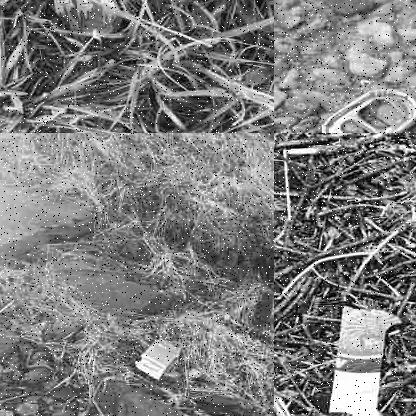cardboard: (134, 332, 182, 381)
metal: (321, 82, 415, 132), (21, 0, 121, 42)
plastic: (330, 302, 385, 415)
